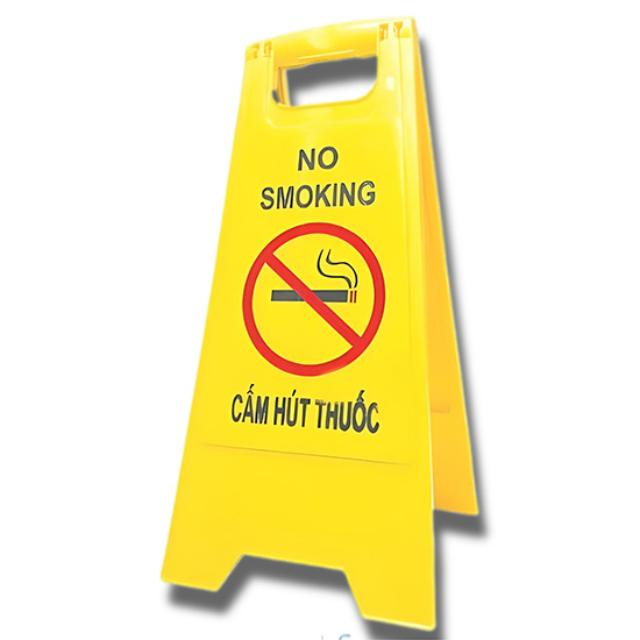cam hut thuoc: (162, 19, 476, 630)
